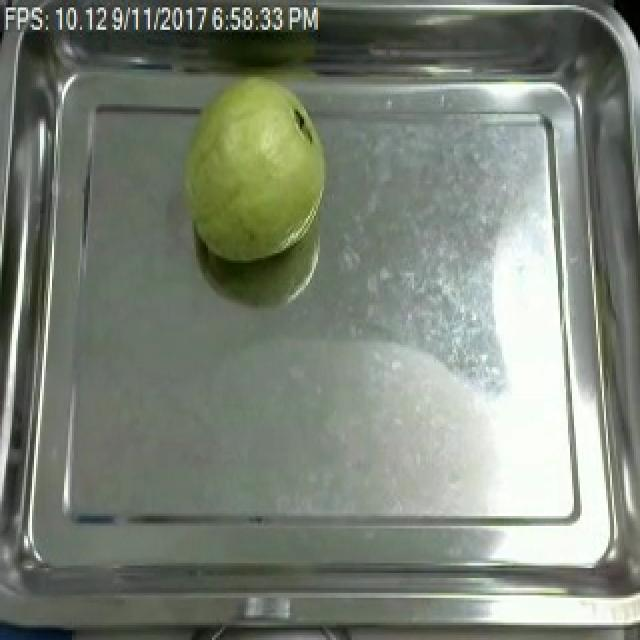Fruit: (170, 72, 336, 270)
